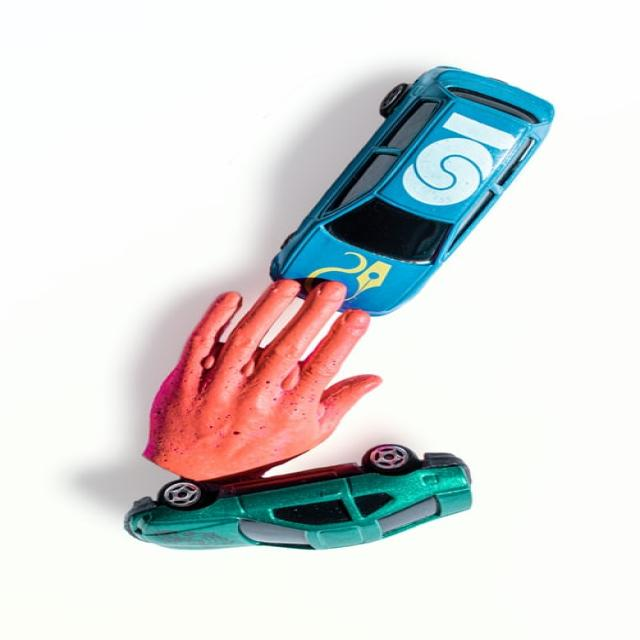Car: (268, 66, 556, 319), (123, 444, 472, 552)
